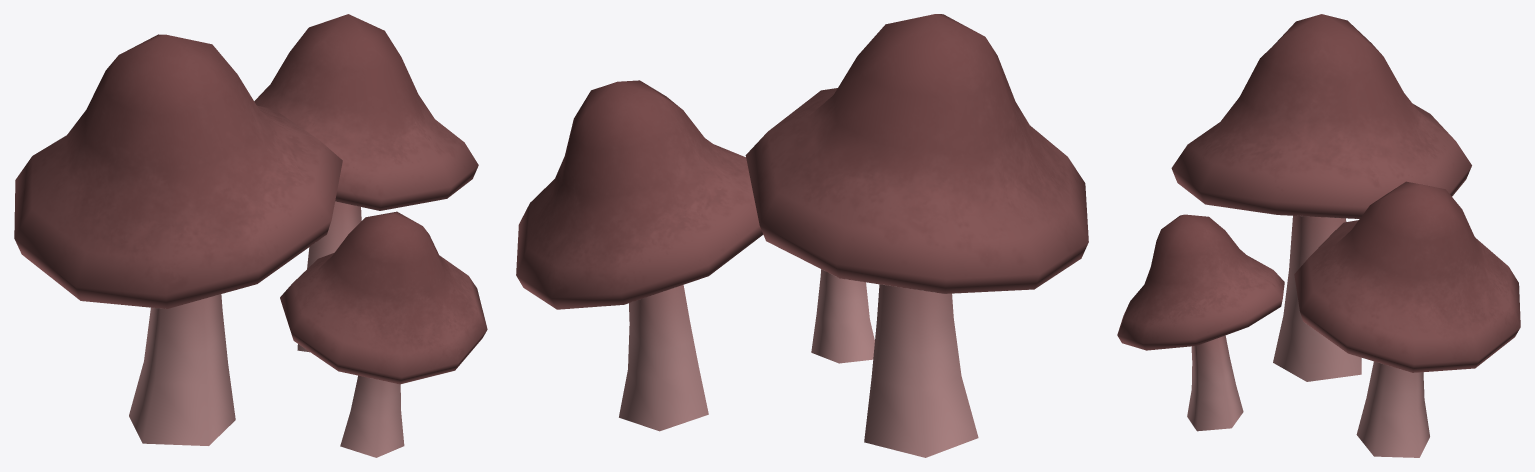
3 renders of one model, left to right at view 1: azimuth 30°, elevation 25°; view 2: azimuth 150°, elevation 25°; view 3: azimuth 270°, elevation 25°, orthographic. The views are drawn at different scales.
Visible parts, largest first — view 1: submesh_0; view 2: submesh_0; view 3: submesh_0.
Part boxes in pixels (box(x1,y1,x2,y2)): submesh_0: box(14, 14, 487, 457); submesh_0: box(516, 14, 1088, 457); submesh_0: box(1117, 14, 1520, 457).
Size of the model in its own units: 0.43 by 0.3562 by 0.3757.
Materials: 1 (1 with a texture image).
